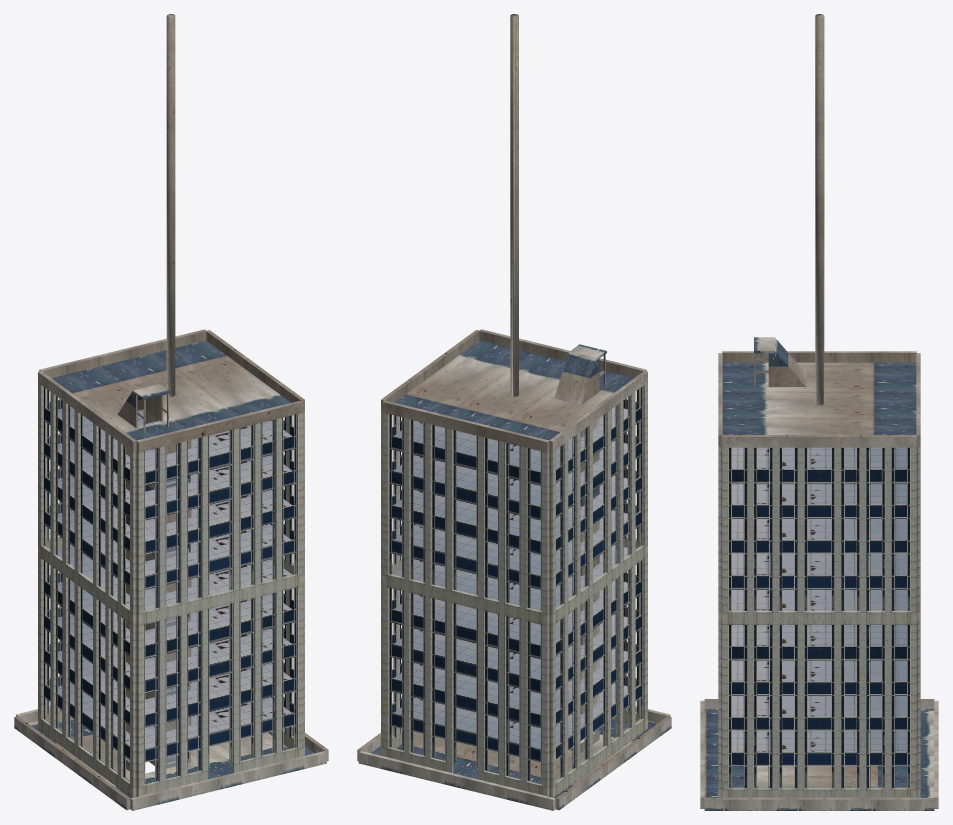
File: BagSS02top_high.fbx
3 renders of one model, left to right at view 1: azimuth 30°, elevation 25°; view 2: azimuth 150°, elevation 25°; view 3: azimuth 270°, elevation 25°, orthographic. The views are drawn at different scales.
Visible parts, largest first — view 1: topMain700, rooftop700, topFloor700, antenna; view 2: topMain700, rooftop700, topFloor700, antenna; view 3: topMain700, rooftop700, topFloor700, antenna.
Part boxes in pixels (<box>): topMain700: <box>38,383,304,797</box>; rooftop700: <box>14,329,328,810</box>; topFloor700: <box>58,407,291,748</box>; antenna: <box>166,14,175,396</box>; topMain700: <box>381,383,647,797</box>; rooftop700: <box>357,329,671,810</box>; topFloor700: <box>394,407,627,748</box>; antenna: <box>510,14,518,396</box>; topMain700: <box>718,446,920,797</box>; rooftop700: <box>700,337,938,810</box>; topFloor700: <box>731,447,907,751</box>; antenna: <box>815,14,824,404</box>.
Bounding box in the file's own units: 38.63 × 136 × 38.63.
